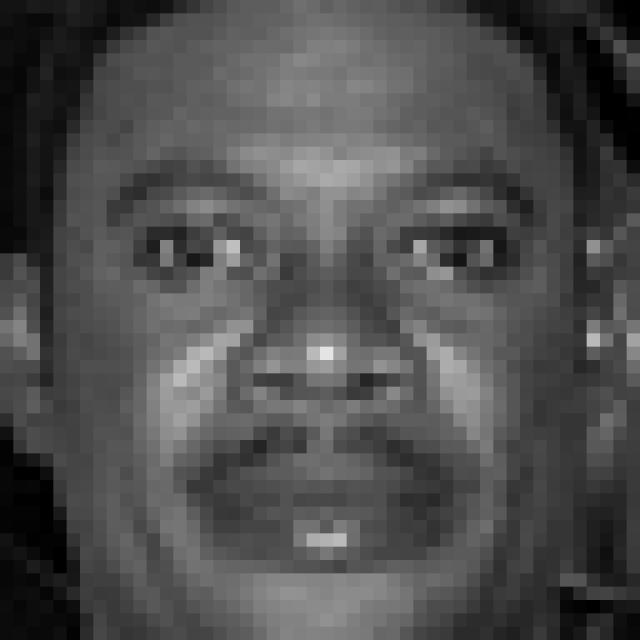neutral: (90, 149, 557, 581)
